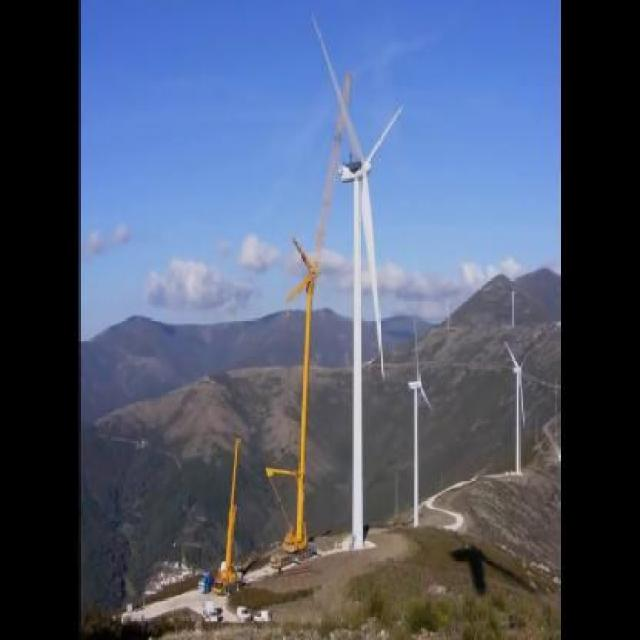Mobile Crane: (266, 69, 357, 574), (201, 434, 257, 595)
